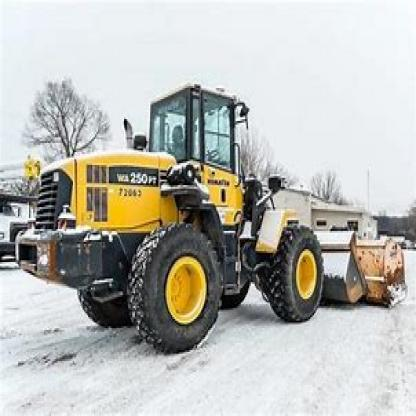bull_dozer/loader/grader: (11, 82, 411, 354)
